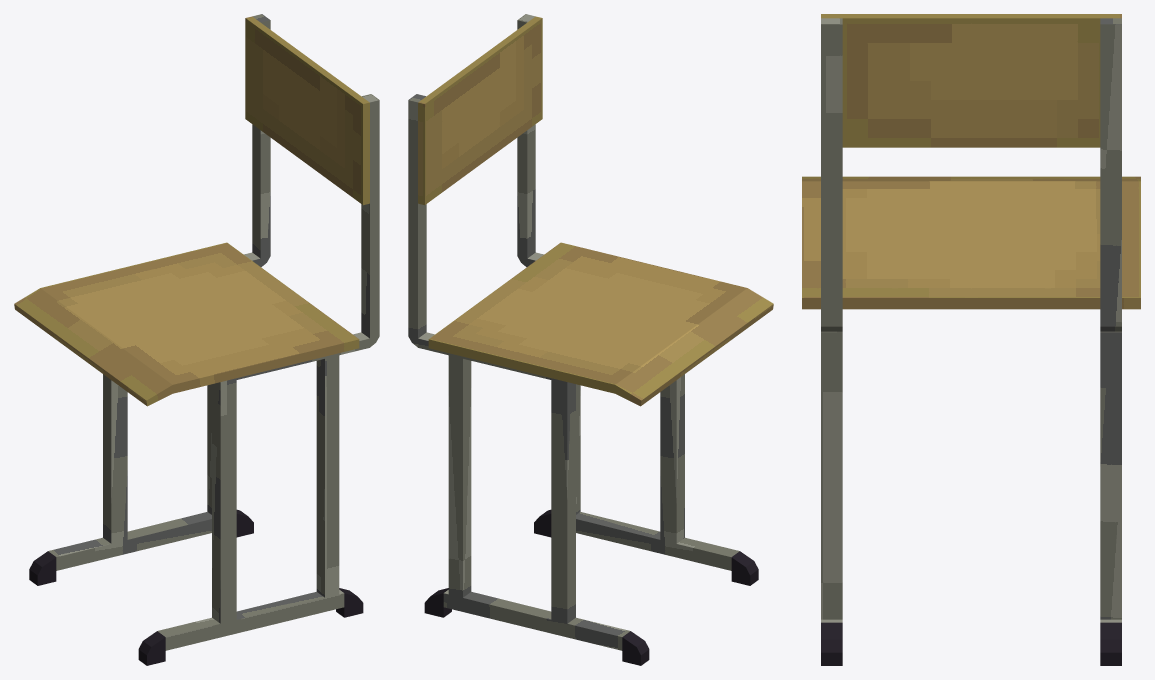
File: Studen chair.fbx
3 renders of one model, left to right at view 1: azimuth 30°, elevation 25°; view 2: azimuth 150°, elevation 25°; view 3: azimuth 270°, elevation 25°, orthographic. The views are drawn at different scales.
Visible parts, largest first — view 1: Cube.002; view 2: Cube.002; view 3: Cube.002.
Part boxes in pixels (left/top/right/bottom): Cube.002: left=14, top=14, right=379, bottom=665; Cube.002: left=408, top=14, right=773, bottom=665; Cube.002: left=802, top=14, right=1140, bottom=665.
Size of the model in its own units: 210 by 424 by 200.
1 material, 1 textured.
